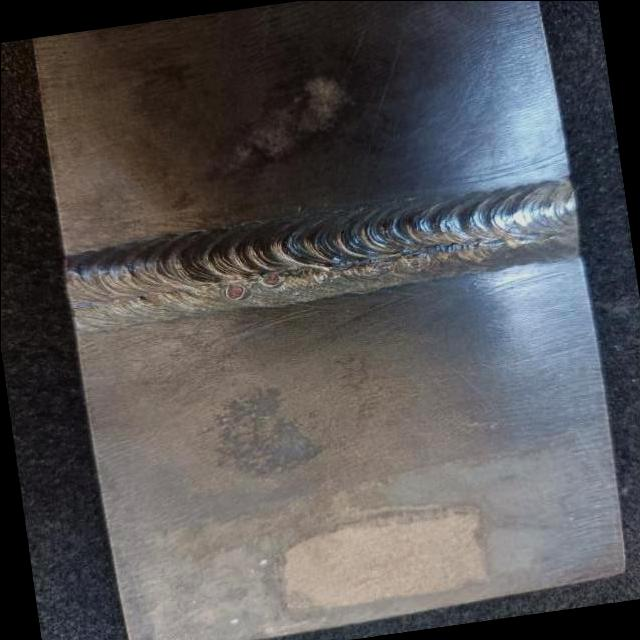defect: (218, 281, 249, 302), (257, 267, 286, 286), (367, 257, 392, 276), (402, 250, 427, 268), (133, 291, 148, 304)
